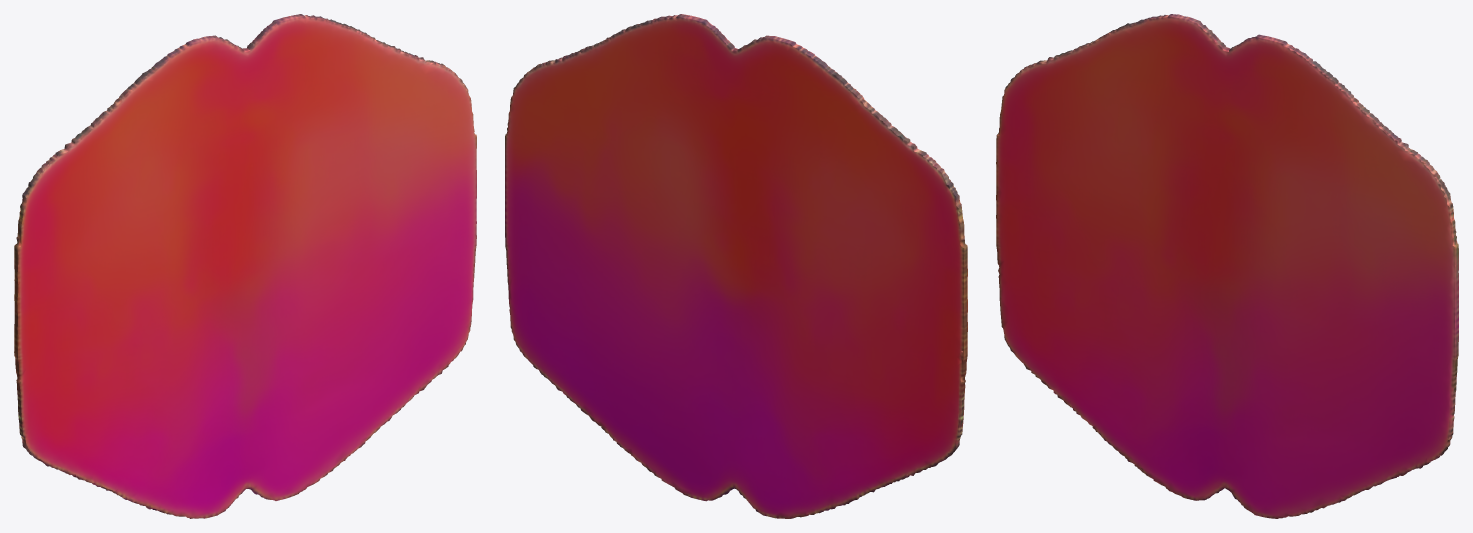
File: heart.glb
The picture shows the model from 3 angles, left to right: view 1: azimuth 30°, elevation 25°; view 2: azimuth 150°, elevation 25°; view 3: azimuth 330°, elevation 25°; orthographic projection.
Parts seen in each view (by area): view 1: world; view 2: world; view 3: world.
Part boxes in pixels (left/top/right/bottom): world: left=14, top=14, right=476, bottom=518; world: left=505, top=14, right=967, bottom=518; world: left=996, top=14, right=1458, bottom=518.
Bounding box in the file's own units: 0.08 × 0.0797 × 0.00124.
1 material, 1 textured.
